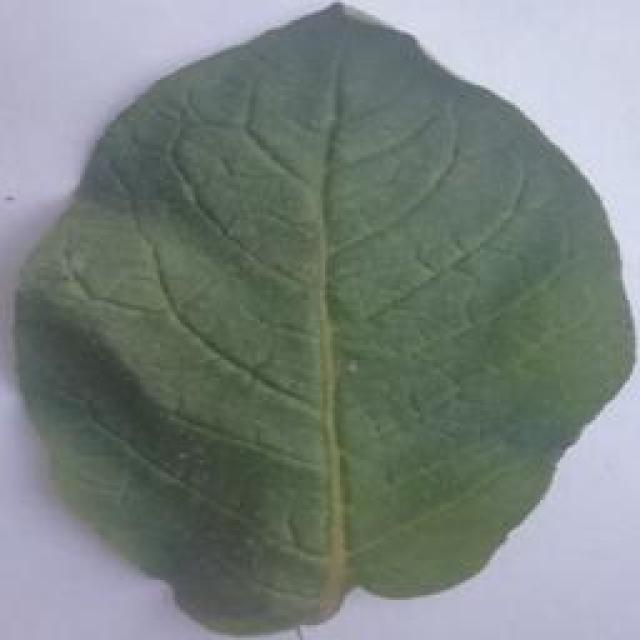Potato_Healthy: (17, 5, 628, 634)
